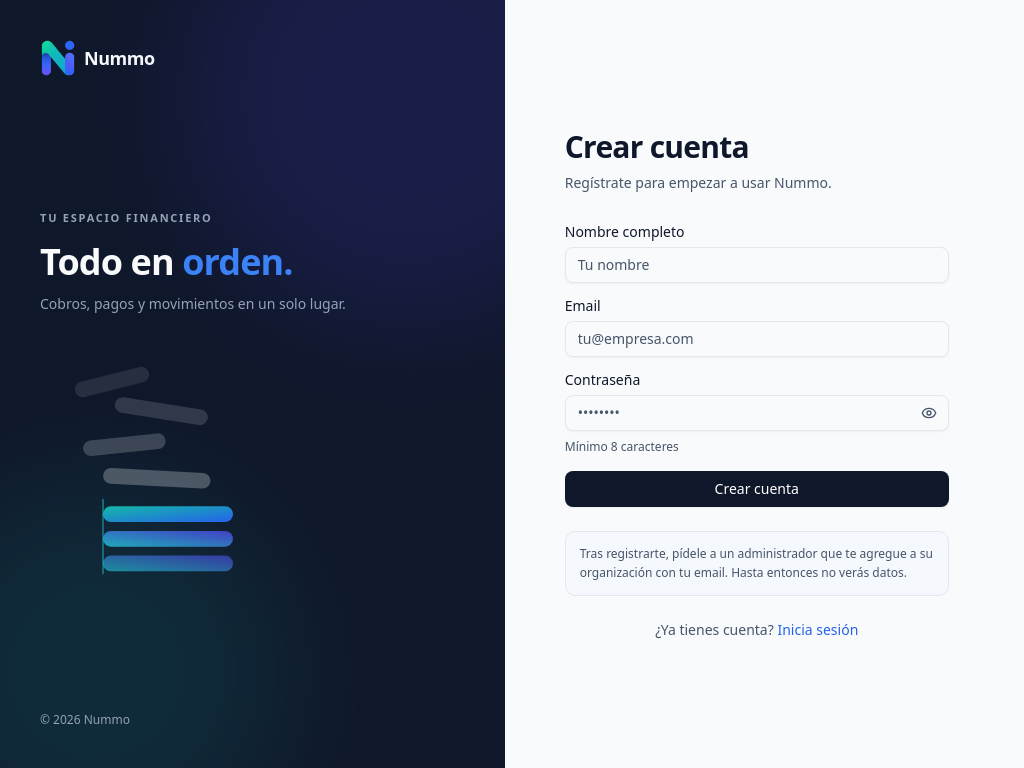
Test: rate-limit (429) muestra un mensaje amable
In the field labelled "Nombre completo": (757, 264) [565, 246, 949, 282], type "Persona Nueva"
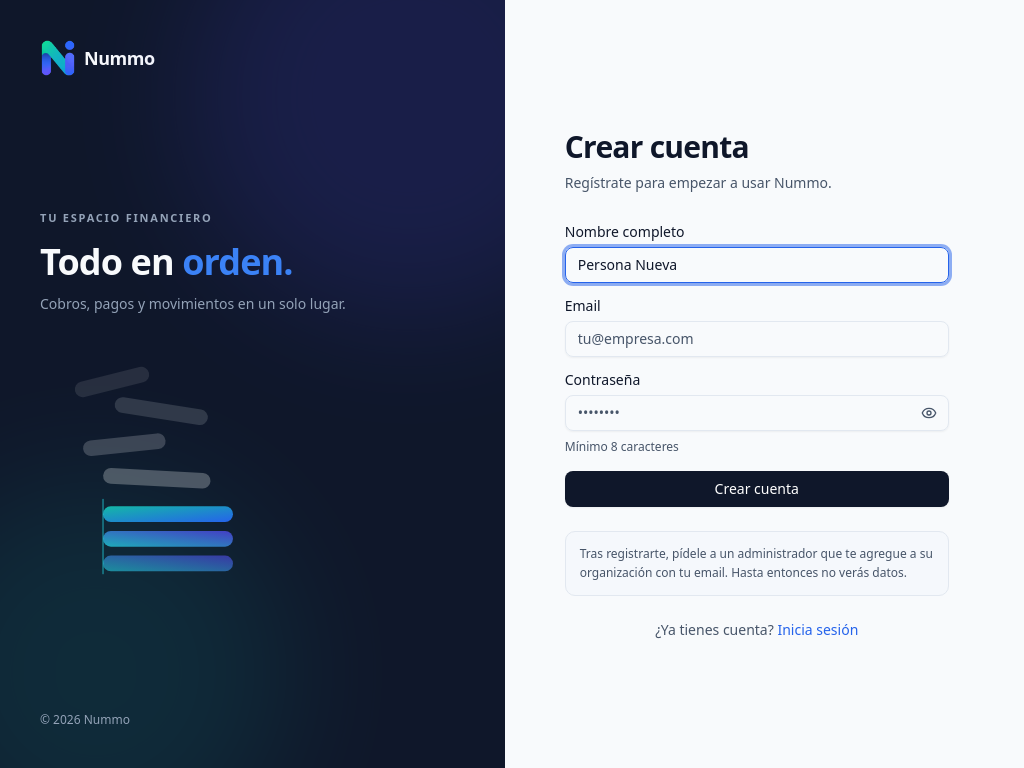
In the field labelled "Email": (757, 338) [565, 320, 949, 356], type "nueva@empresa.com"
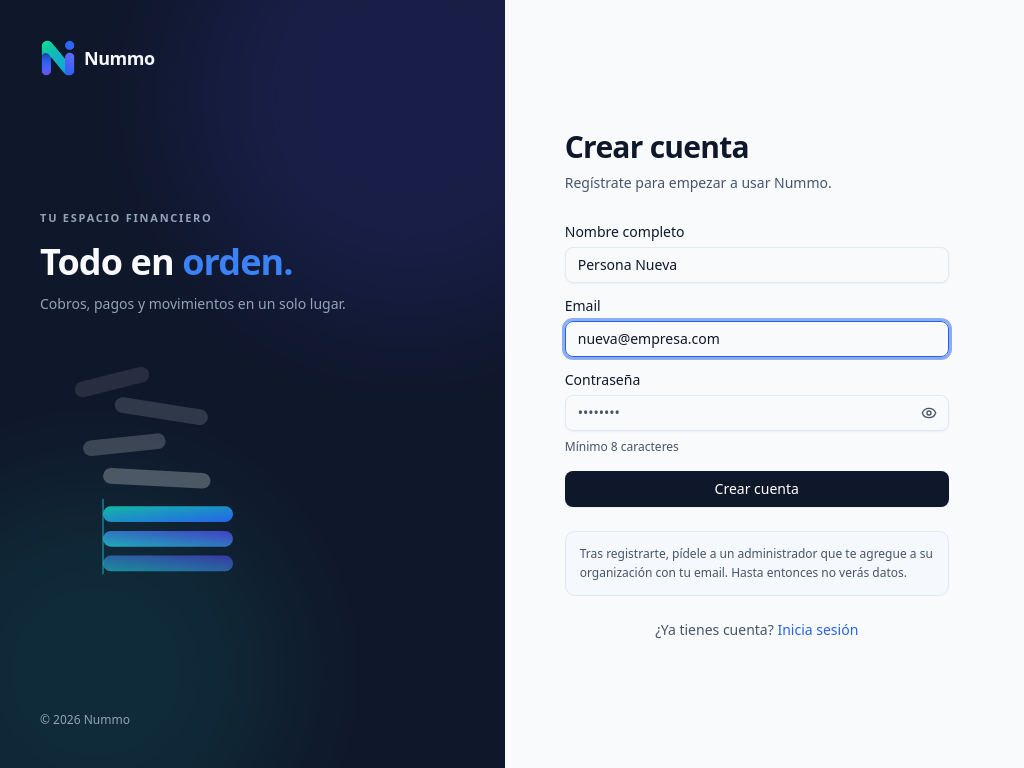
In the password field labelled "Contraseña": (757, 412) [565, 394, 949, 430], type "Segura123"
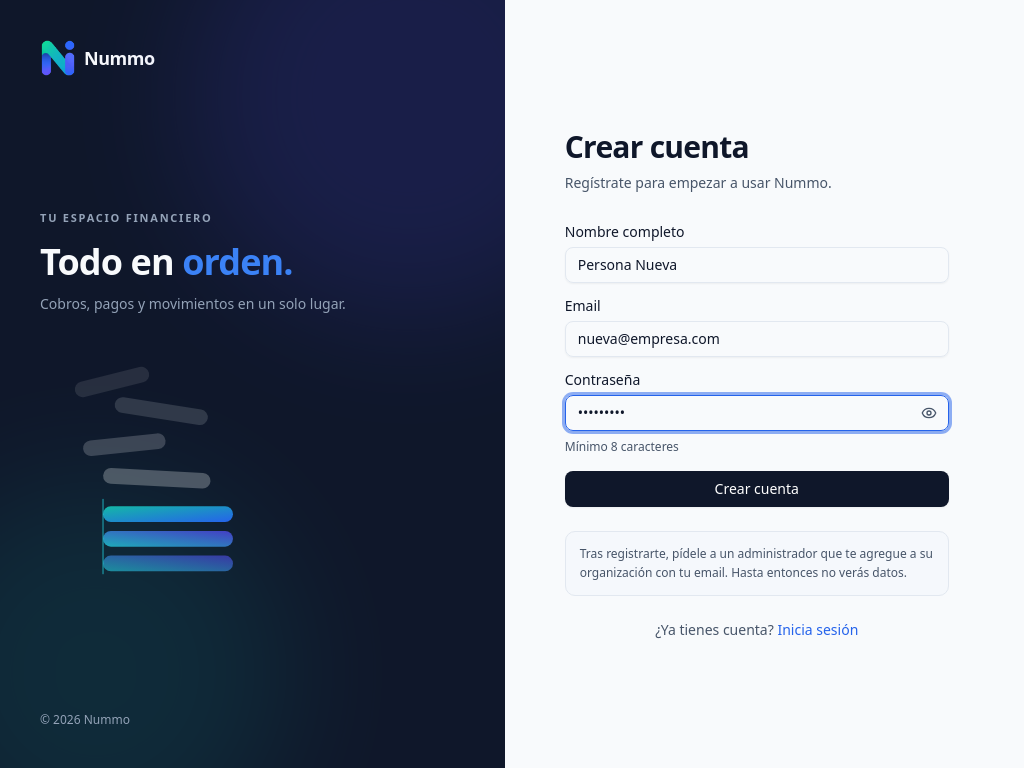
Click the button "Crear cuenta": (757, 488) [565, 470, 949, 506]
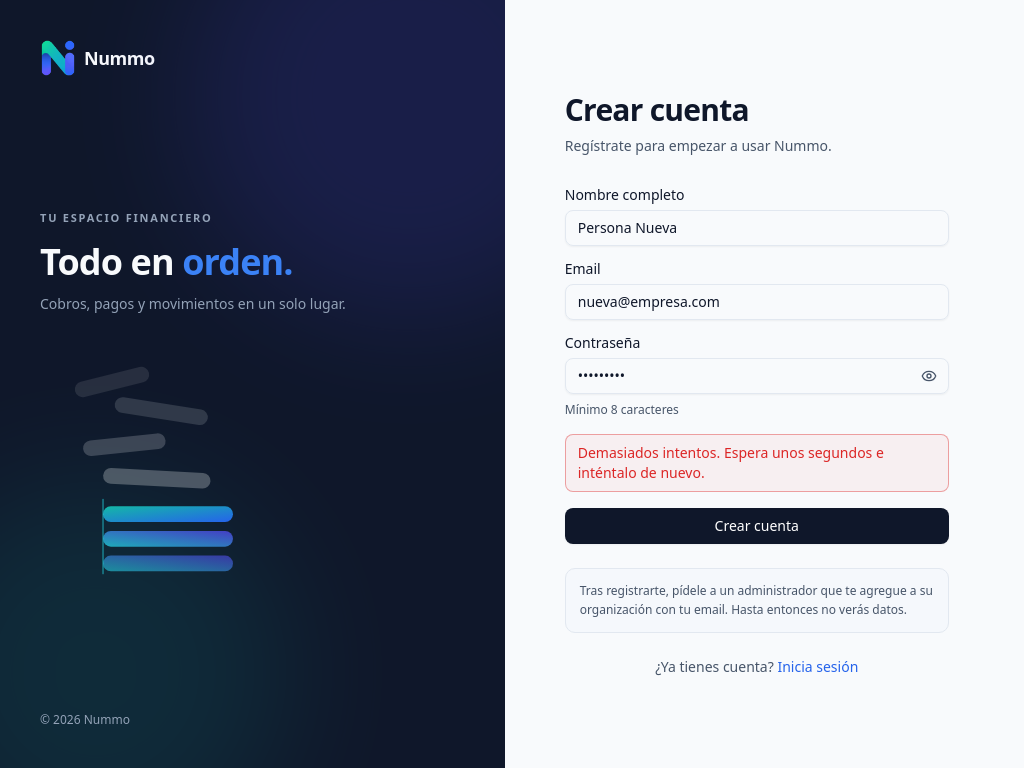
expect the text "Demasiados intentos. Espera unos segundos e inténtalo de nuevo." is shown: met, box [565, 434, 949, 492]
